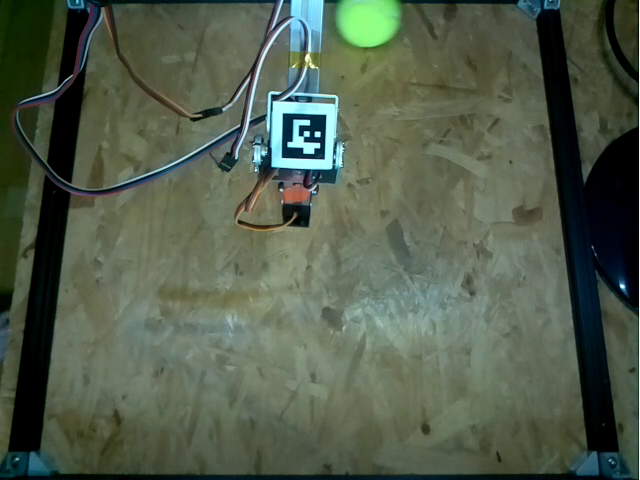tennis_ball: (332, 1, 402, 48)
